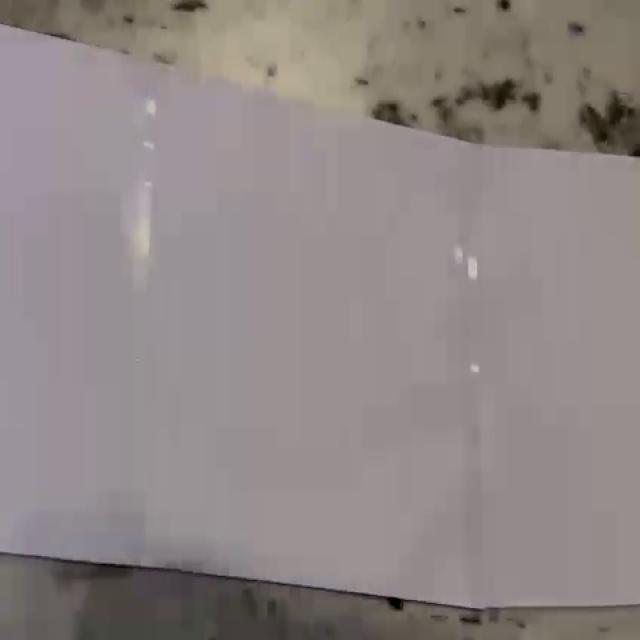road: (0, 25, 640, 608)
